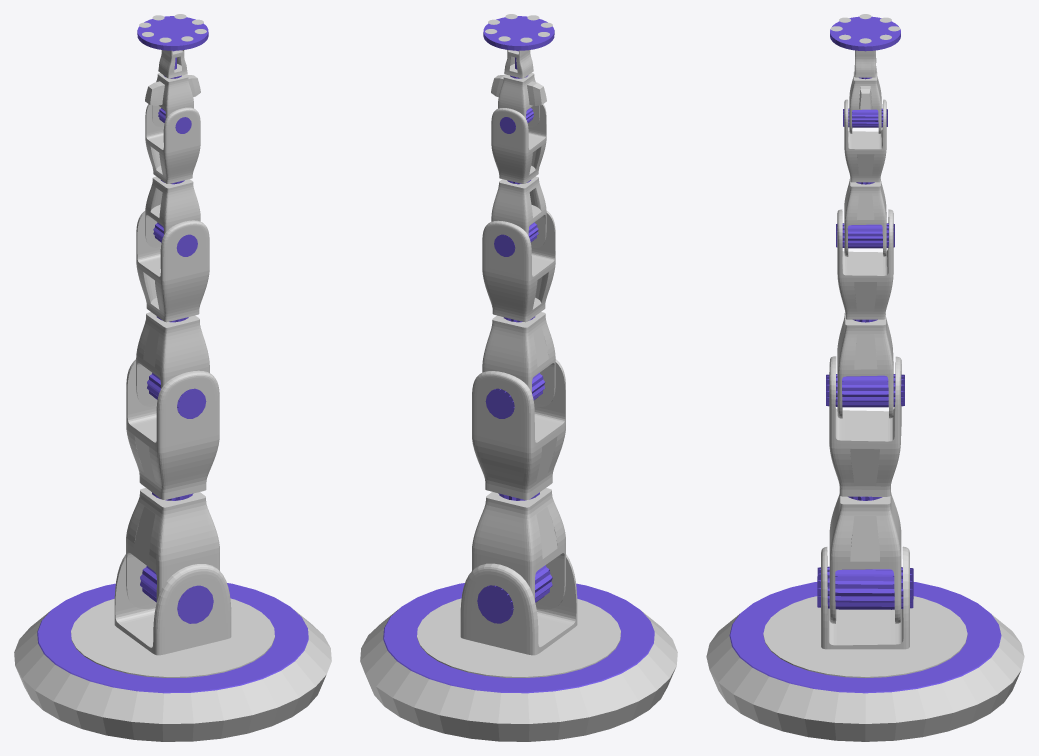
File: Robot4.glb
The picture shows the model from 3 angles, left to right: view 1: azimuth 30°, elevation 25°; view 2: azimuth 150°, elevation 25°; view 3: azimuth 270°, elevation 25°; orthographic projection.
Parts seen in each view (by area): view 1: Robot-Base, Robot-Base.001, Arm1-B, Arm1-A, Arm-Base, Arm2-B, Arm2-A, Arm3-B, Arm3-A, Hand, Arm1-A-Pin, Arm4-A (+4 smaller); view 2: Robot-Base, Robot-Base.001, Arm1-B, Arm1-A, Arm-Base, Arm2-B, Arm2-A, Arm3-B, Arm3-A, Hand, Arm1-A-Pin, Arm4-A (+4 smaller); view 3: Robot-Base, Robot-Base.001, Arm1-B, Arm1-A, Arm-Base, Arm2-B, Arm2-A, Arm1-A-Pin, Arm3-B, Arm3-A, Arm2-A-Pin, Hand (+4 smaller).
Part boxes in pixels (bbox=[...]): Robot-Base: bbox=[14, 598, 331, 741]; Robot-Base.001: bbox=[37, 583, 308, 693]; Arm1-B: bbox=[126, 359, 219, 499]; Arm1-A: bbox=[126, 488, 219, 608]; Arm-Base: bbox=[114, 554, 231, 655]; Arm2-B: bbox=[136, 211, 209, 322]; Arm2-A: bbox=[136, 312, 209, 406]; Arm3-B: bbox=[145, 104, 200, 183]; Arm3-A: bbox=[145, 176, 200, 247]; Hand: bbox=[137, 16, 208, 69]; Arm1-A-Pin: bbox=[140, 566, 213, 623]; Arm4-A: bbox=[152, 73, 193, 126]; Robot-Base: bbox=[360, 598, 677, 741]; Robot-Base.001: bbox=[383, 583, 654, 693]; Arm1-B: bbox=[472, 359, 565, 499]; Arm1-A: bbox=[472, 488, 565, 609]; Arm-Base: bbox=[460, 554, 577, 655]; Arm2-B: bbox=[482, 210, 555, 322]; Arm2-A: bbox=[482, 312, 555, 406]; Arm3-B: bbox=[491, 104, 546, 183]; Arm3-A: bbox=[491, 176, 546, 247]; Hand: bbox=[483, 16, 554, 69]; Arm1-A-Pin: bbox=[477, 565, 552, 623]; Arm4-A: bbox=[498, 73, 539, 127]; Robot-Base: bbox=[706, 596, 1024, 741]; Robot-Base.001: bbox=[729, 582, 1001, 693]; Arm1-B: bbox=[829, 356, 901, 496]; Arm1-A: bbox=[829, 492, 901, 623]; Arm-Base: bbox=[821, 546, 909, 649]; Arm2-B: bbox=[837, 209, 893, 319]; Arm2-A: bbox=[837, 312, 893, 418]; Arm1-A-Pin: bbox=[817, 566, 913, 609]; Arm3-B: bbox=[844, 99, 886, 182]; Arm3-A: bbox=[844, 176, 886, 256]; Arm2-A-Pin: bbox=[826, 374, 904, 407]; Hand: bbox=[830, 16, 900, 51].
Bounding box in the file's own units: 2.61 × 5.89 × 2.61.
